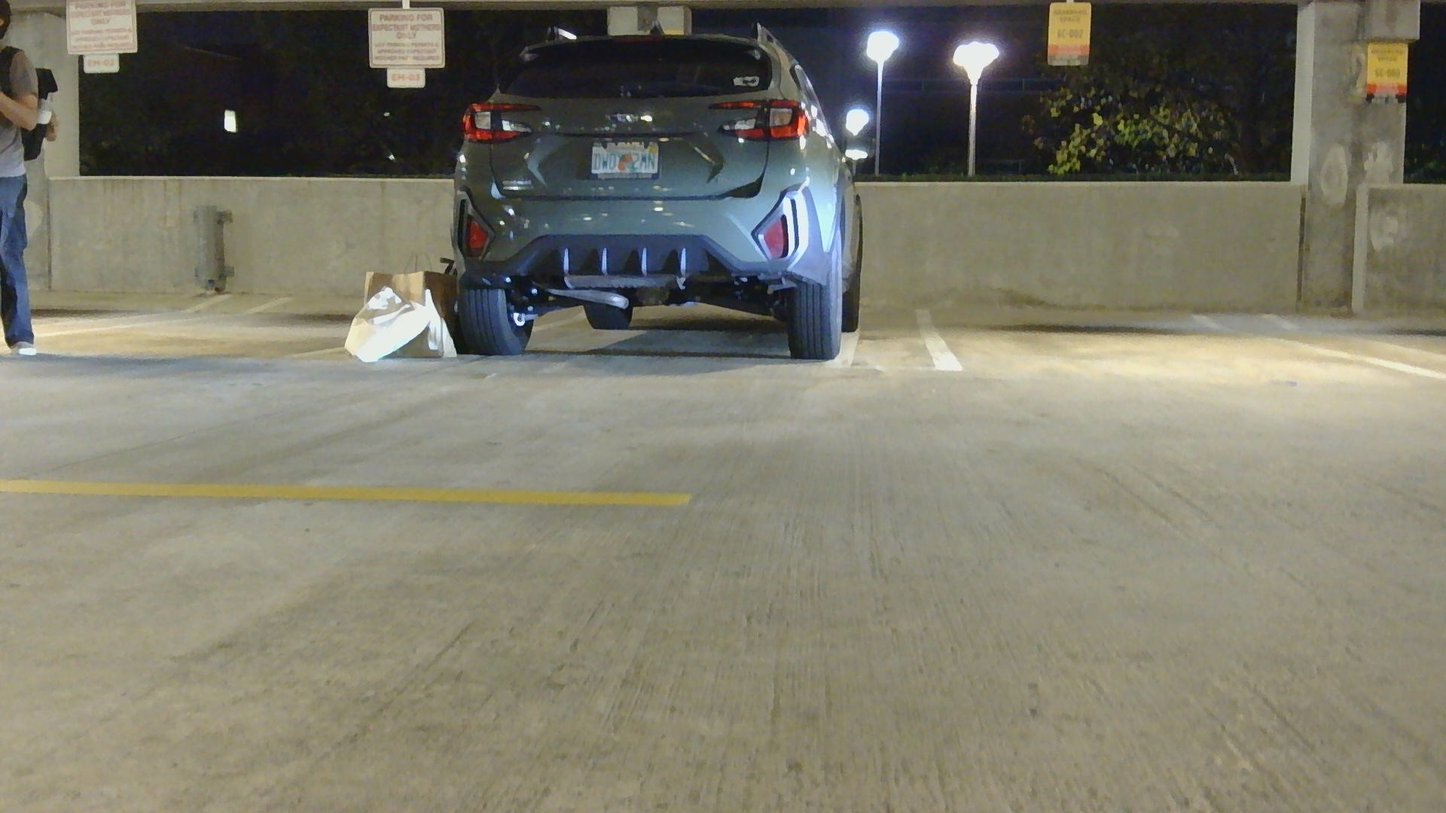empty_spot: (906, 247, 1446, 380), (12, 222, 426, 384)
occupied_spot: (445, 24, 873, 367)
